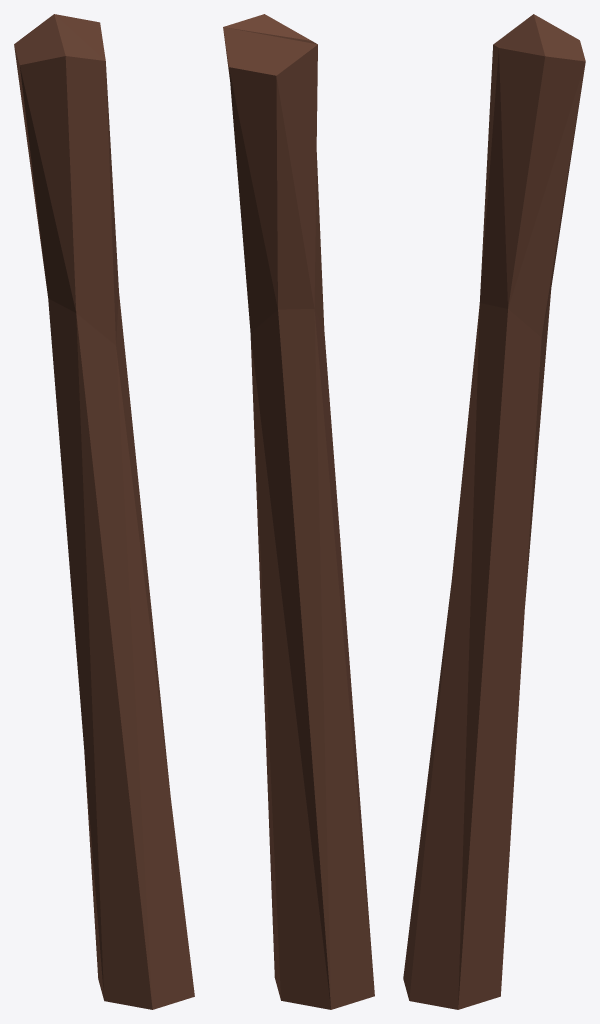
File: Wooden Stick_3.fbx
3 views of the same model, side by side, from view 1: azimuth 90°, elevation 25°; view 2: azimuth 150°, elevation 25°; view 3: azimuth 270°, elevation 25° (orthographic). The views are drawn at different scales.
Parts seen in each view (by area): view 1: Wooden Stick_3.001; view 2: Wooden Stick_3.001; view 3: Wooden Stick_3.001.
Part boxes in pixels (left/top/right/bottom): Wooden Stick_3.001: left=14, top=14, right=194, bottom=1009; Wooden Stick_3.001: left=223, top=14, right=374, bottom=1009; Wooden Stick_3.001: left=403, top=14, right=585, bottom=1009.
Bounding box in the file's own units: 0.1273 × 1.18 × 0.2044.
